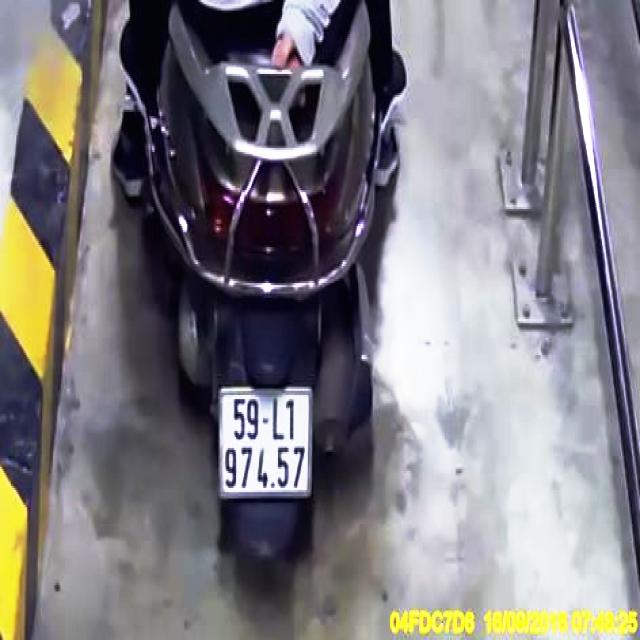license_plate: (221, 391, 314, 499)
